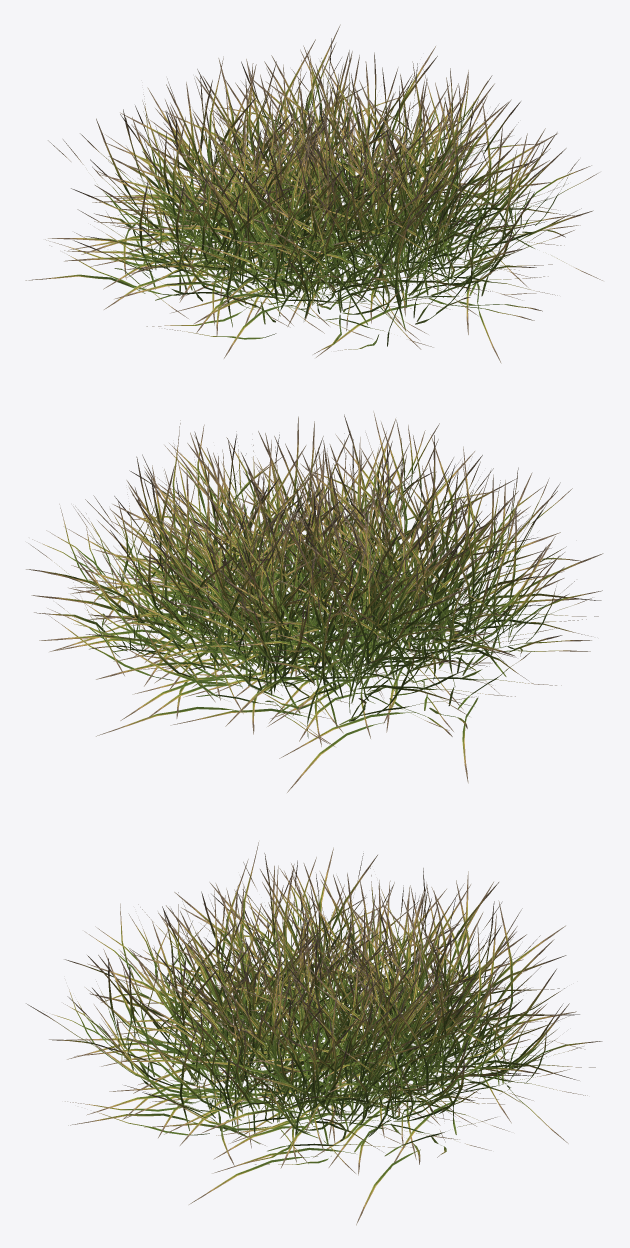
The model's file is grass.glb.
3 renders of one model, top to bottom at view 1: azimuth 30°, elevation 25°; view 2: azimuth 150°, elevation 25°; view 3: azimuth 270°, elevation 25°, orthographic. The views are drawn at different scales.
Parts seen in each view (by area): view 1: Object_2; view 2: Object_2; view 3: Object_2.
Boxes of the visible parts, <box> form: Object_2: <box>25,24,602,363</box>; Object_2: <box>26,411,603,792</box>; Object_2: <box>26,842,602,1225</box>.
Bounding box in the file's own units: 42.51 × 15.1 × 42.5.
1 material, 1 textured.
